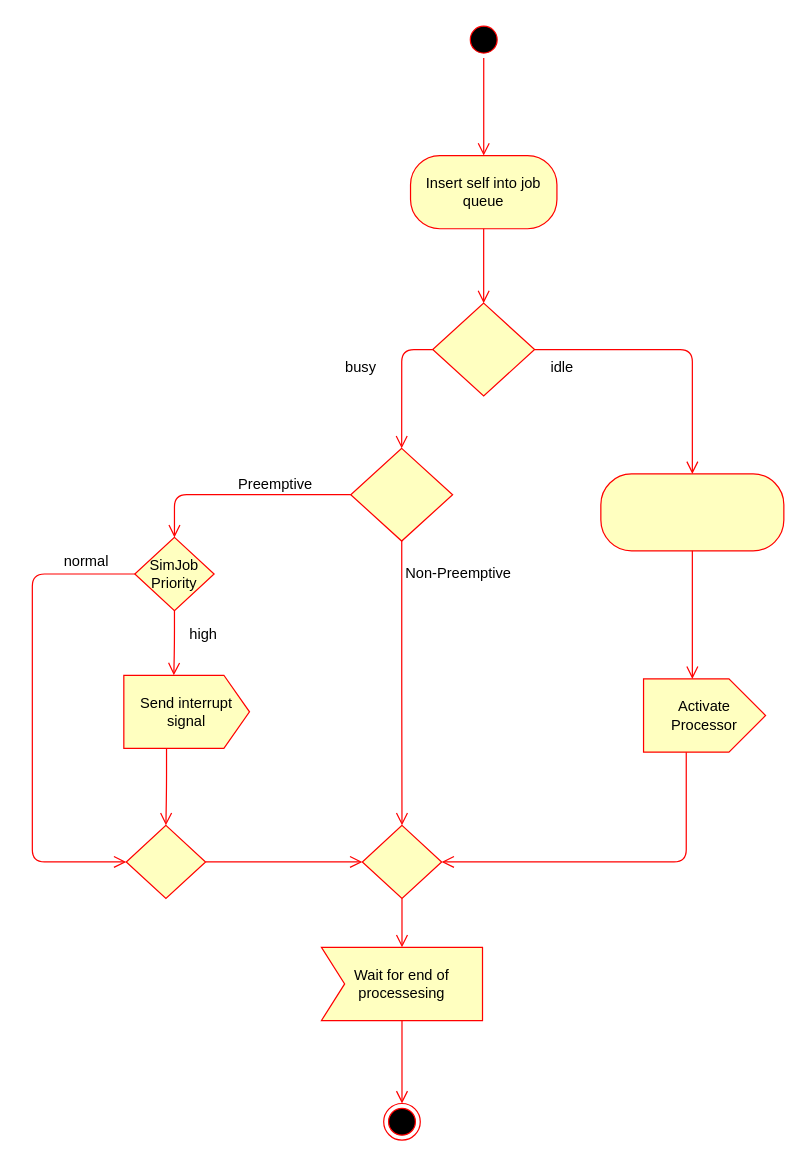
Image size: 805x1161. Some labels were removed from this diagram. The shapes that lost their labels are listed below. From the top down, each one's box as (x1, y1, x2, y2) in pixels, then its label:
(432, 302, 535, 396): Processor status
(350, 447, 453, 541): Scheduling Preemption
(600, 473, 784, 551): Remove Processor from processor queue
